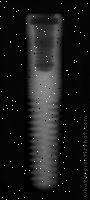Implant Direct: (23, 12, 64, 191)
